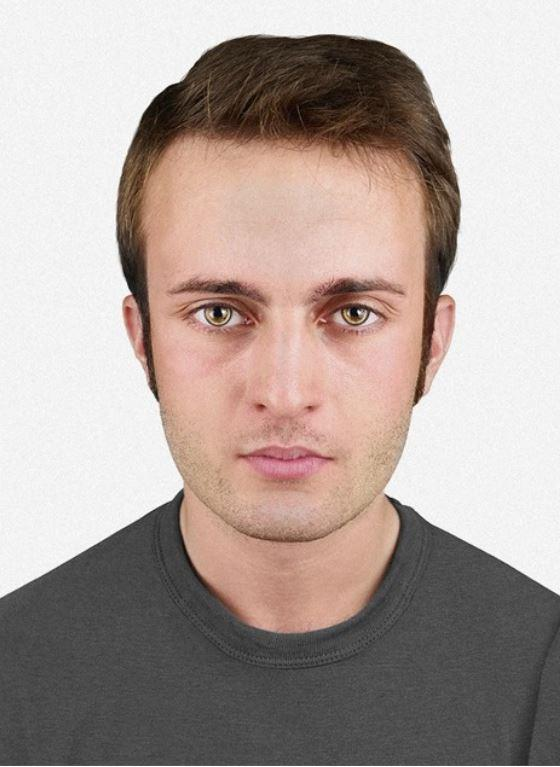Sober: (132, 147, 420, 514)
